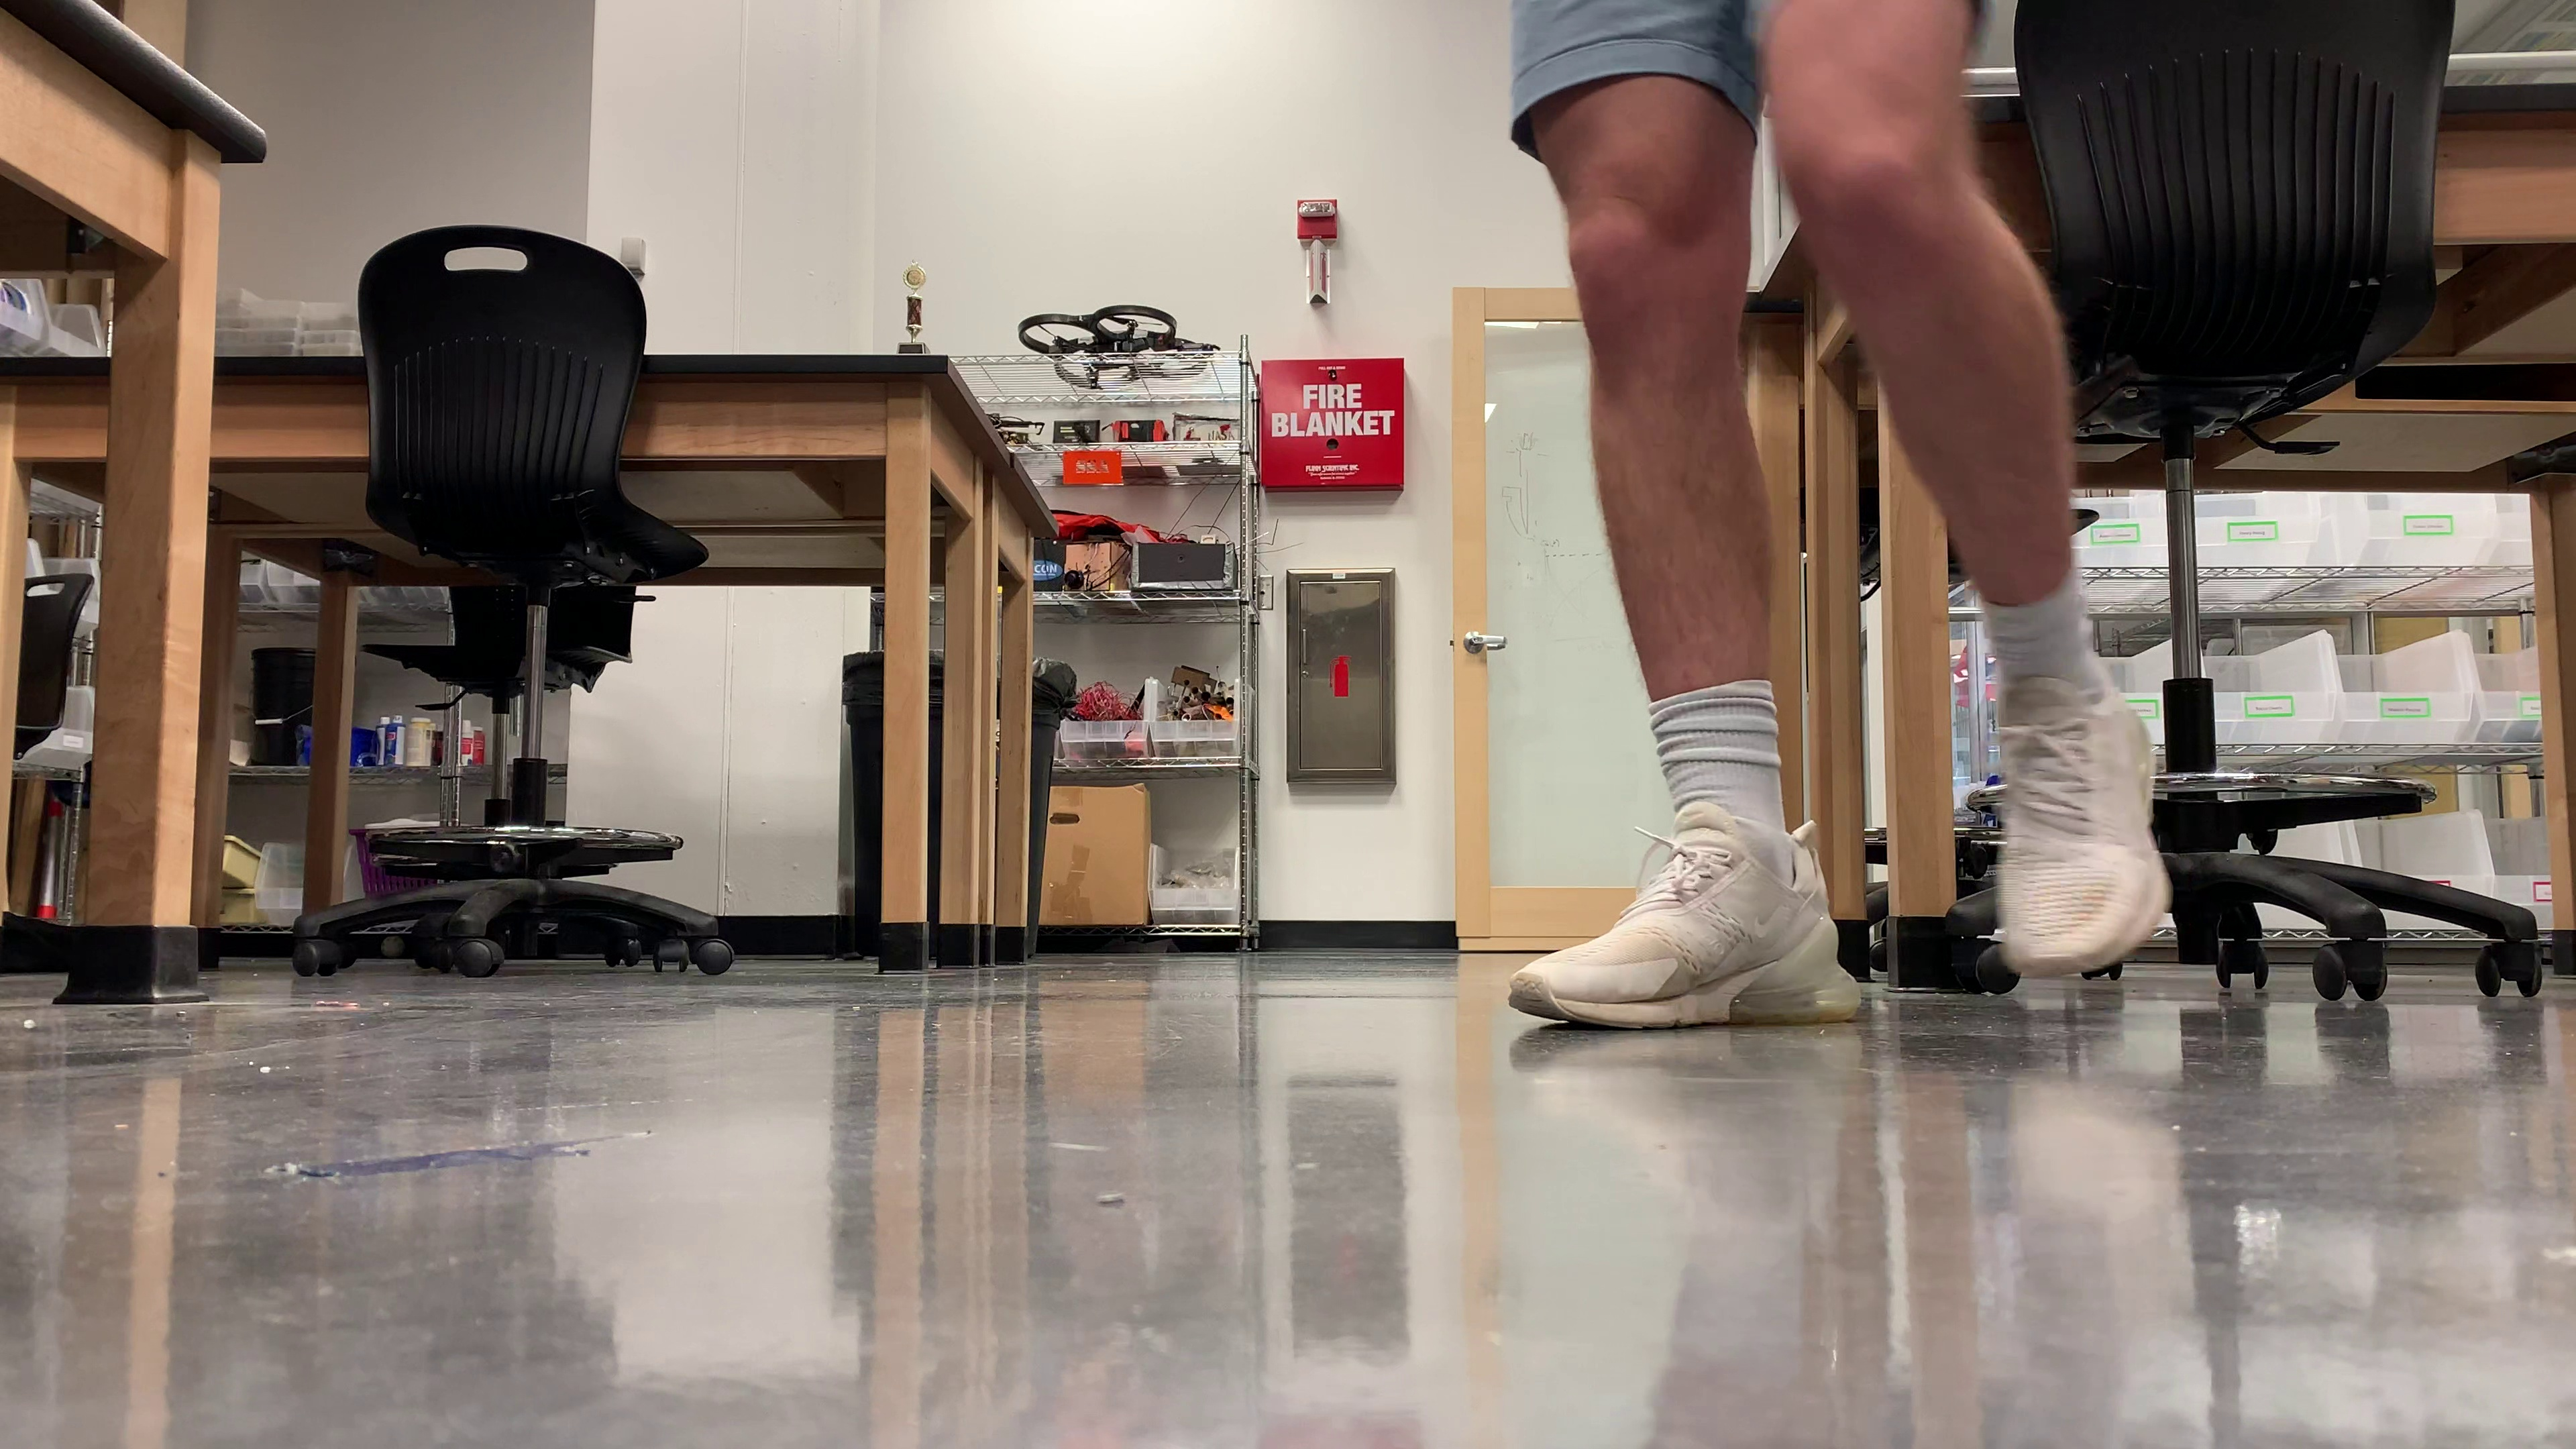shoe: (1514, 800, 1859, 1033), (1994, 658, 2173, 975)
